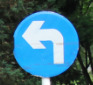left_turn: (13, 11, 79, 78)
